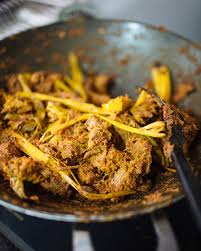rendang: (2, 45, 198, 220)
